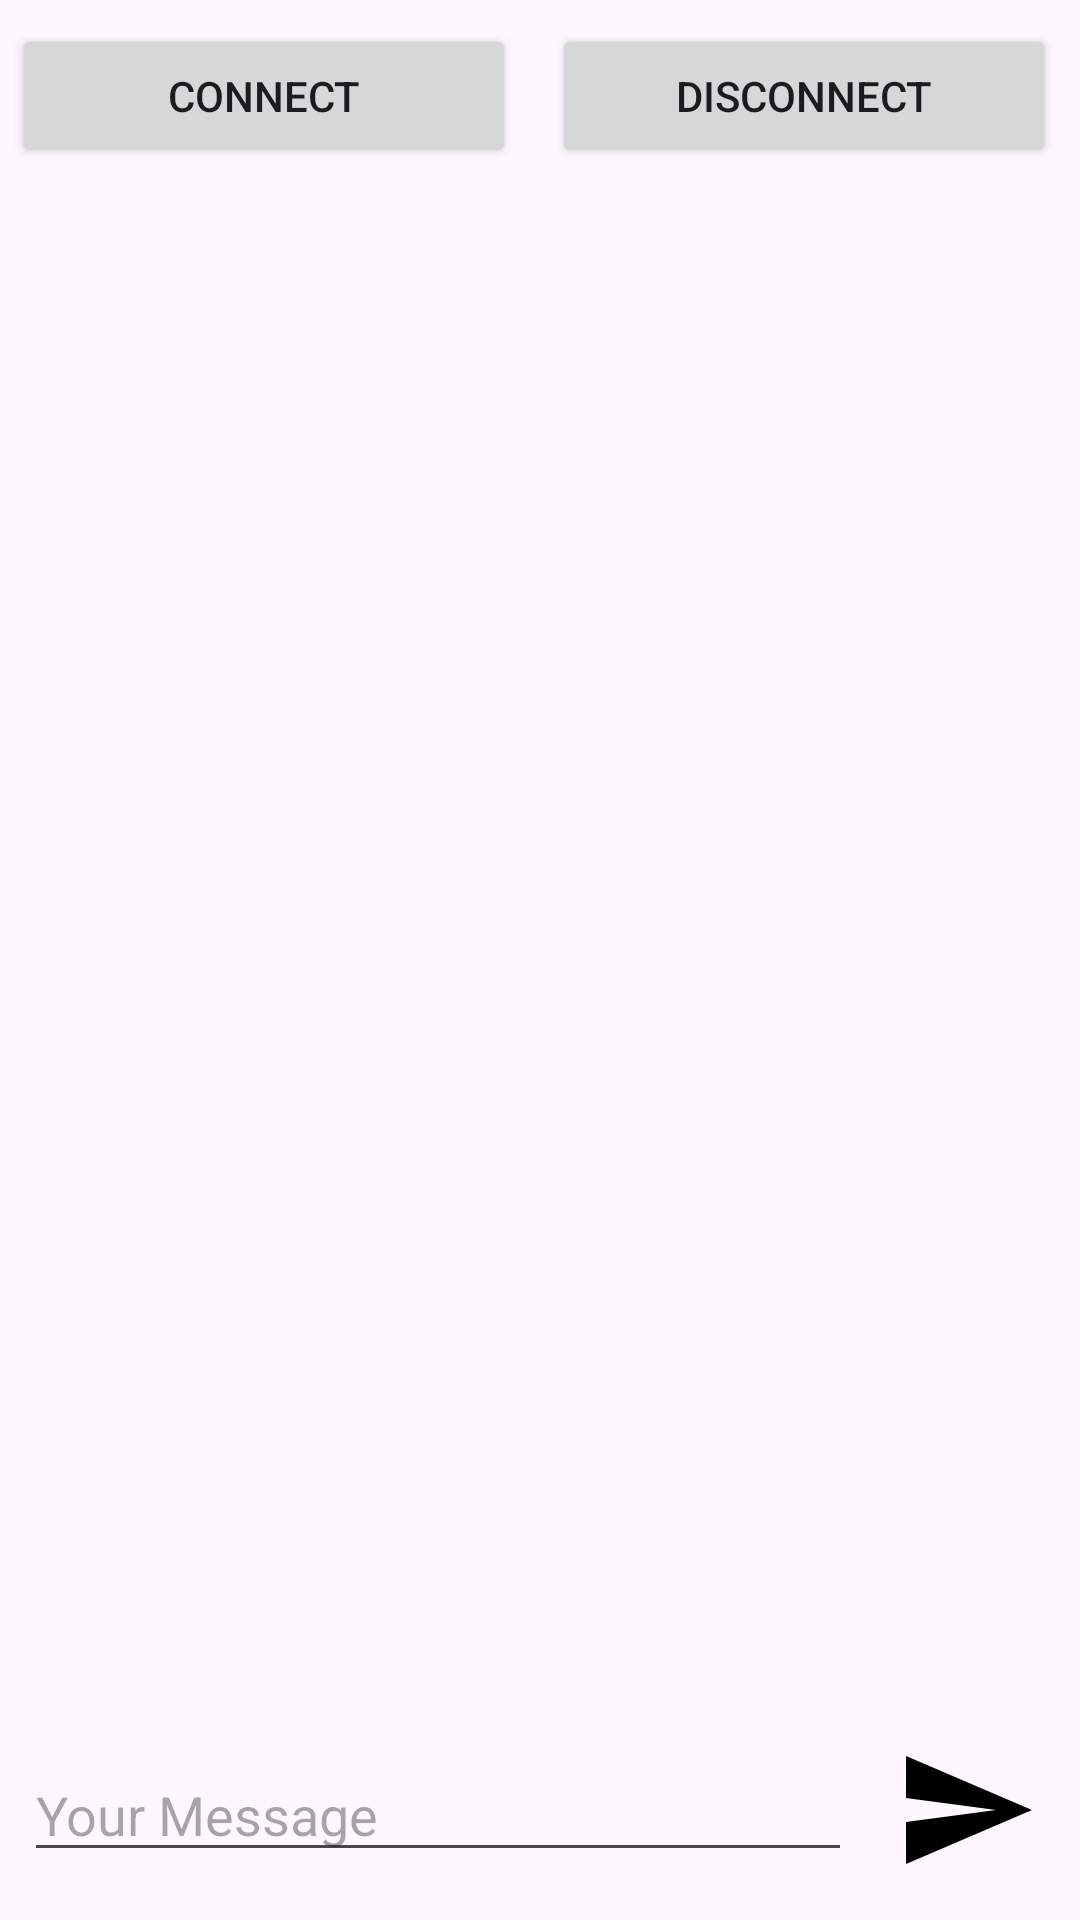

Named icons in this screenshot (1080 × 1920) and their centers, (x=x, y=y):
send: (x=969, y=1810)
